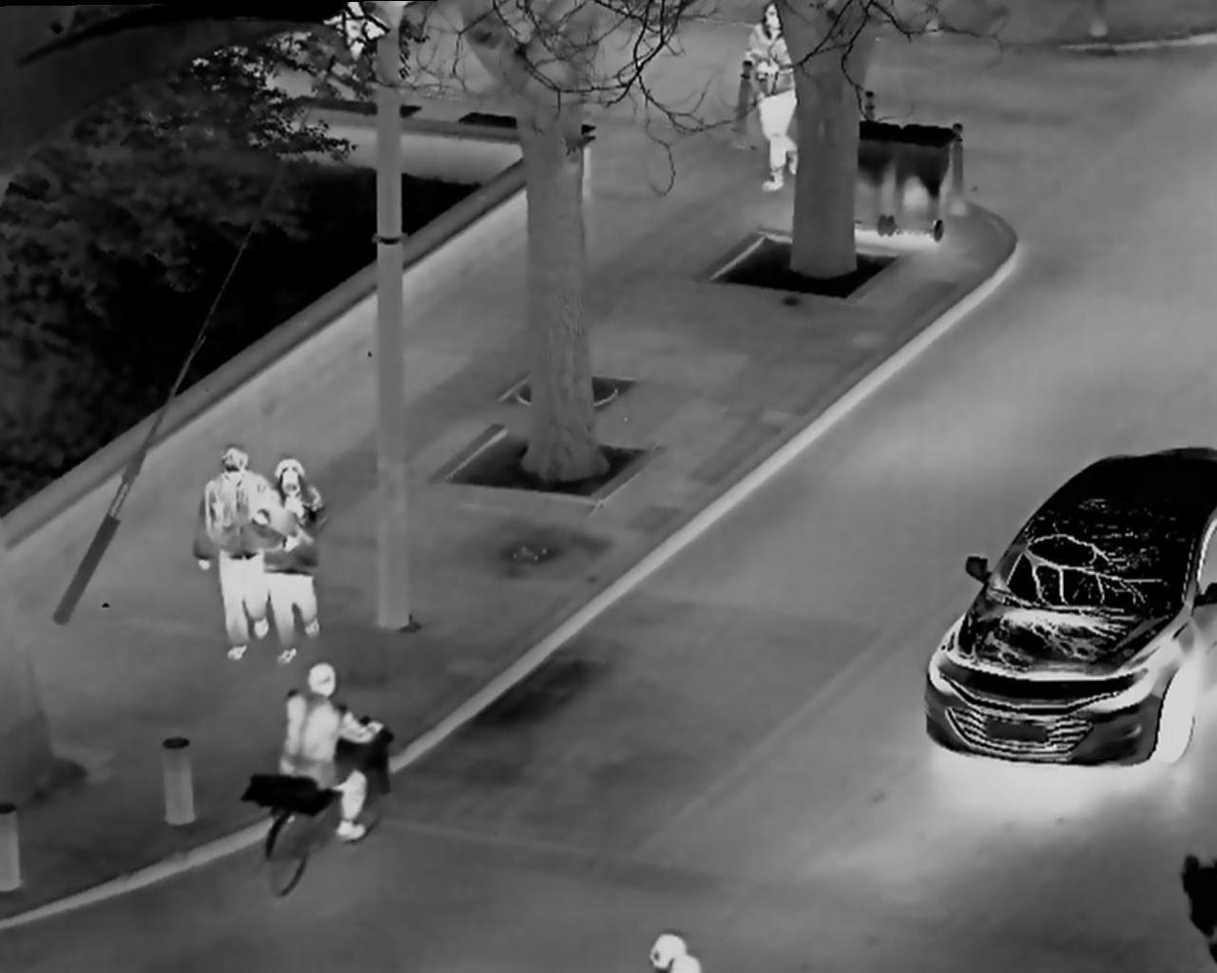person: (270, 658, 389, 897), (184, 435, 275, 658), (256, 447, 339, 643), (744, 9, 804, 198)
